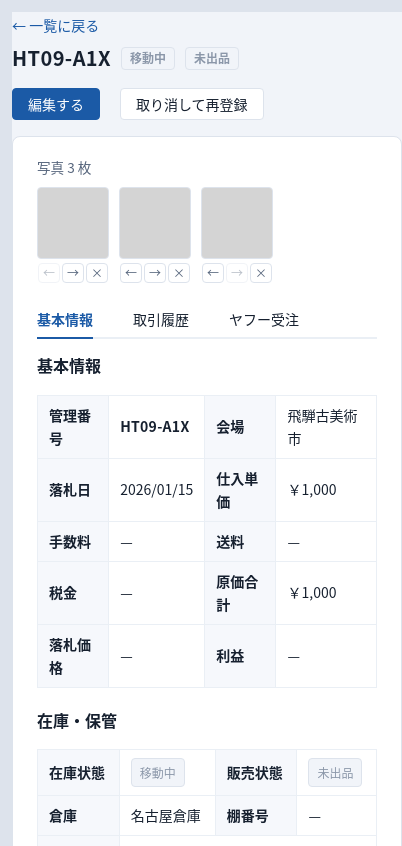
it: photo unbind and reorder (D5) › rolls the local order back and reports when the reorder request fails
This screenshot has width=402, height=846.
What coordinates should you click on to do the following:
click the 4th button with class "itemd-photo-tool"
I would click on:
 (131, 273)
Its box is [120, 263, 142, 283].
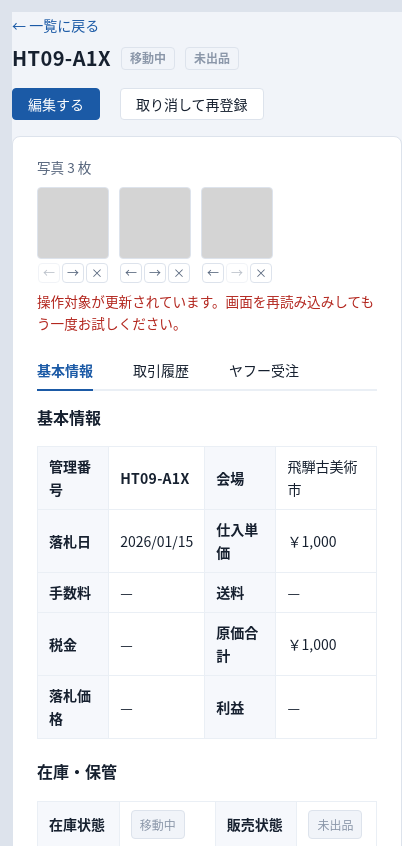
Check: the message with class "itemd-photo-error" reads "操作対象が更新されています。画面を再読み込みしてもう一度お試しください。", box [37, 291, 374, 333]
